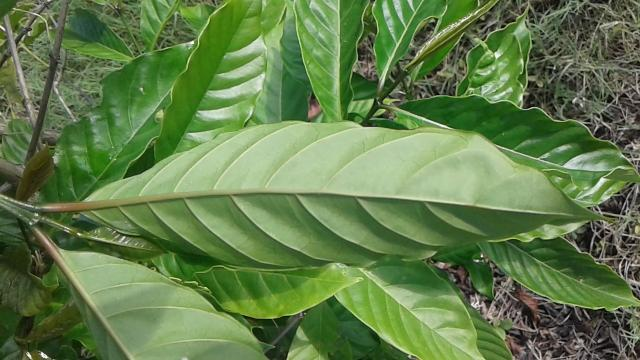healthy: (80, 118, 586, 270)
